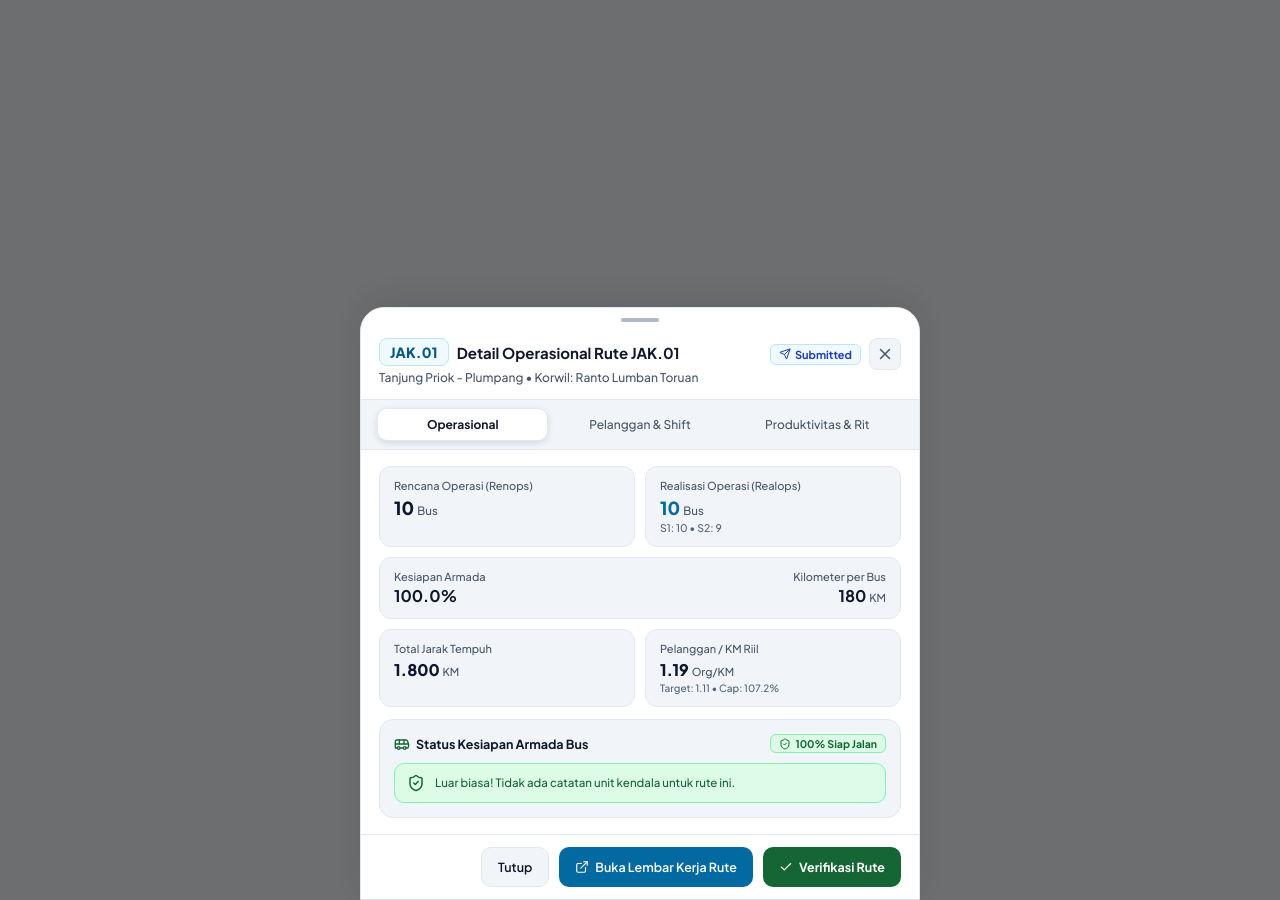
it: MonitoringRouteDetailModal › ritase metrics calculations and precision › calculates ritase per bus accurately without .toFixed(1) truncation: 50.5 / 10 bus -> 5.05 rit/Bus
This screenshot has width=1280, height=900.
Step 1. Click the button with test id "tab-produktivitas" → [817, 424], box [732,408,903,441]
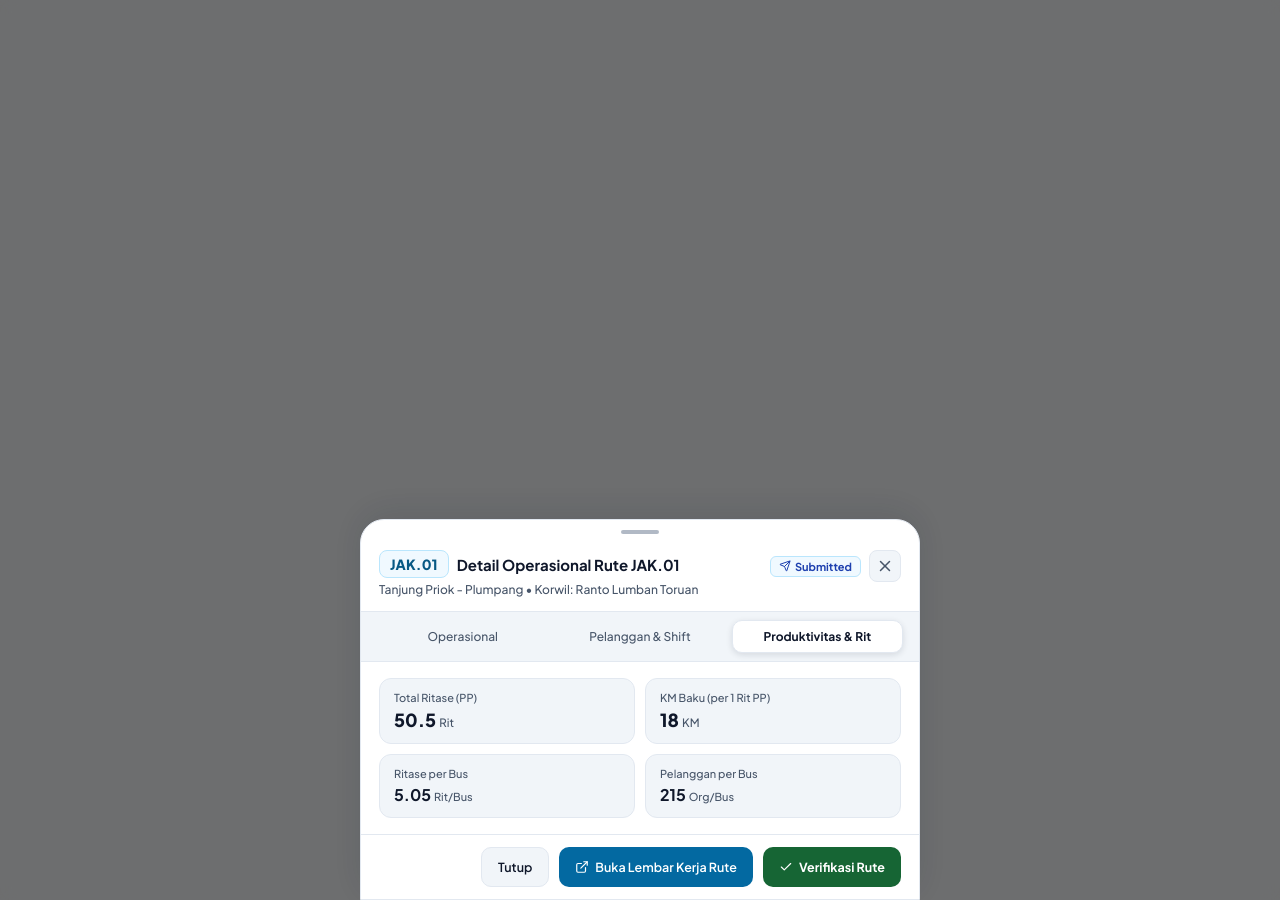
Expected: the element showing "5.05 Rit/Bus" is shown, [394,784,473,805]
